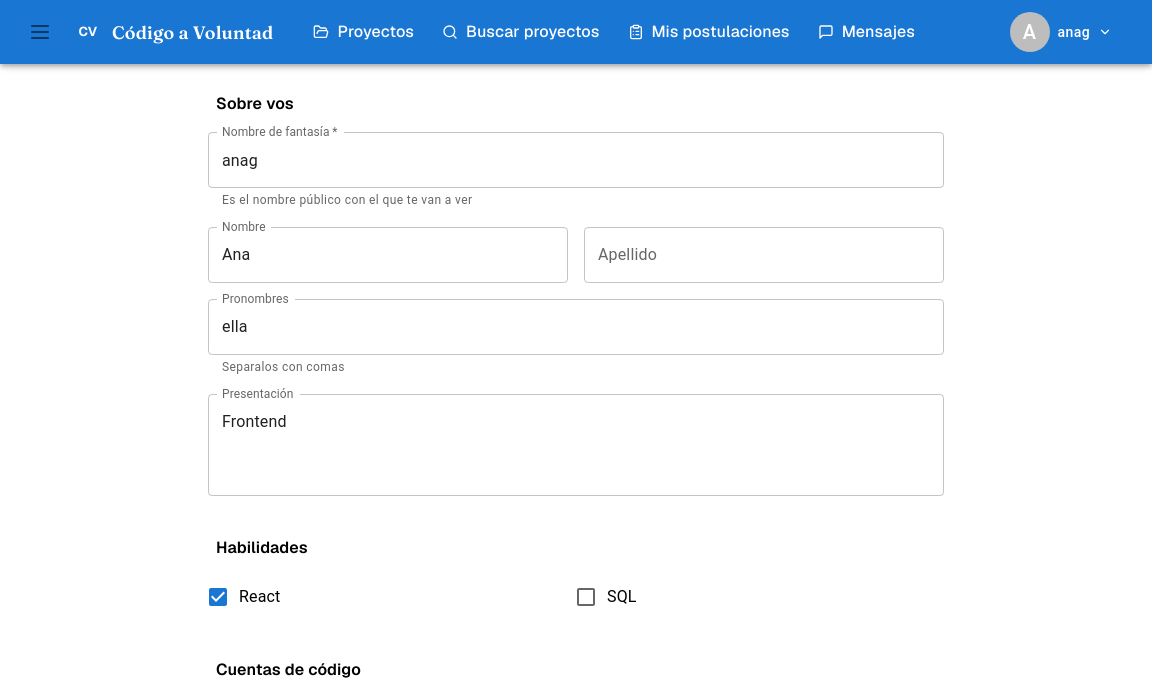
Test case: MiPerfil › si el backend rechaza los cambios muestra su mensaje y conserva lo tipeado
This screenshot has width=1152, height=698.
expect the field labelled "Nombre de fantasía *" is shown: met, box 208,132 -> 944,188
Replace the text in the text box labelled "Presentación" with "Backend" at (576, 445), box 222,410 -> 930,479
(page scrolled)
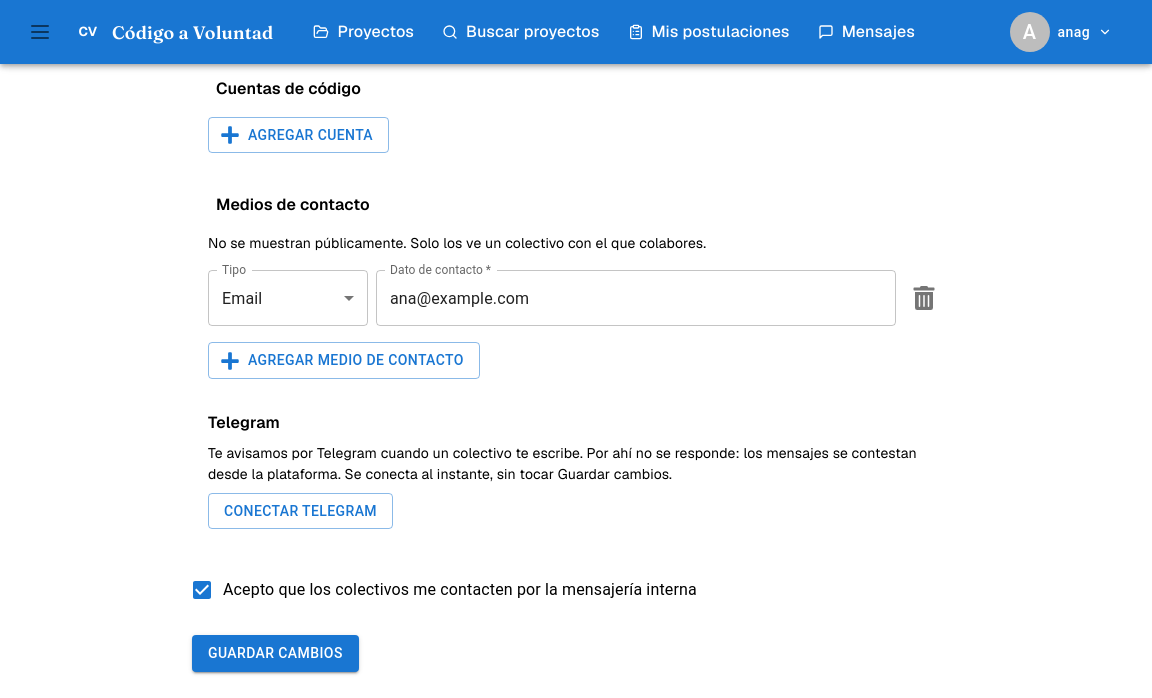
Click the button "Agregar medio de contacto" at (344, 361), box 208,342 -> 480,379
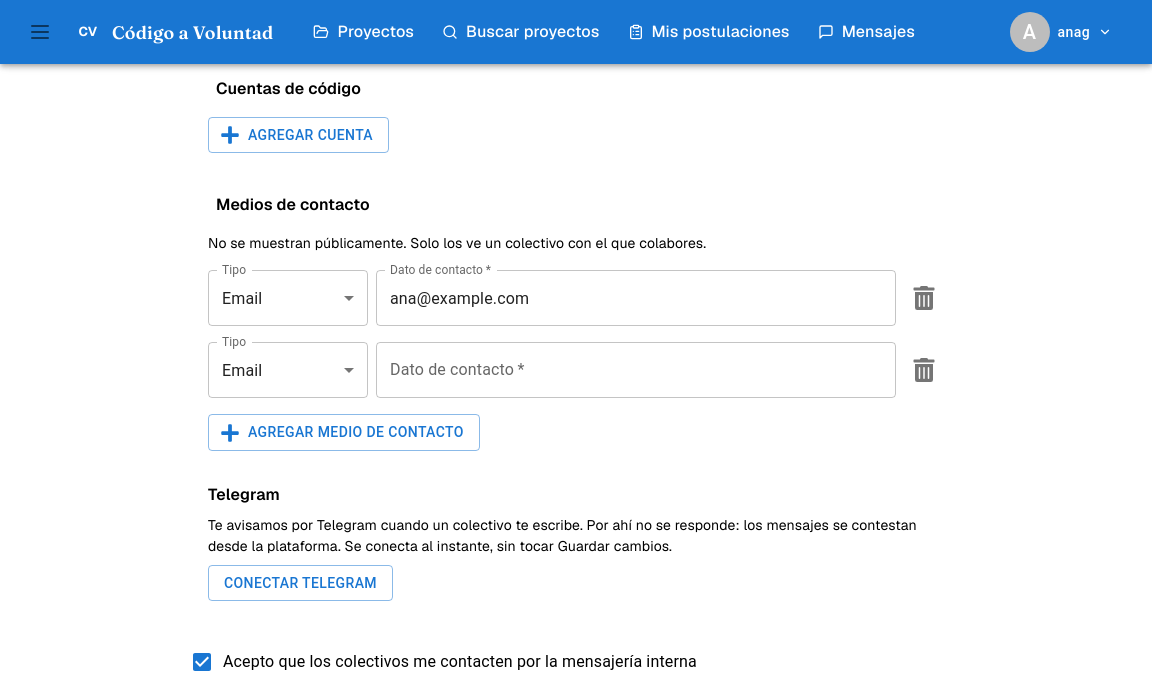
Type "abc" into the 2nd field labelled "Dato de contacto *" at (636, 370), box 376,342 -> 896,398
(page scrolled)
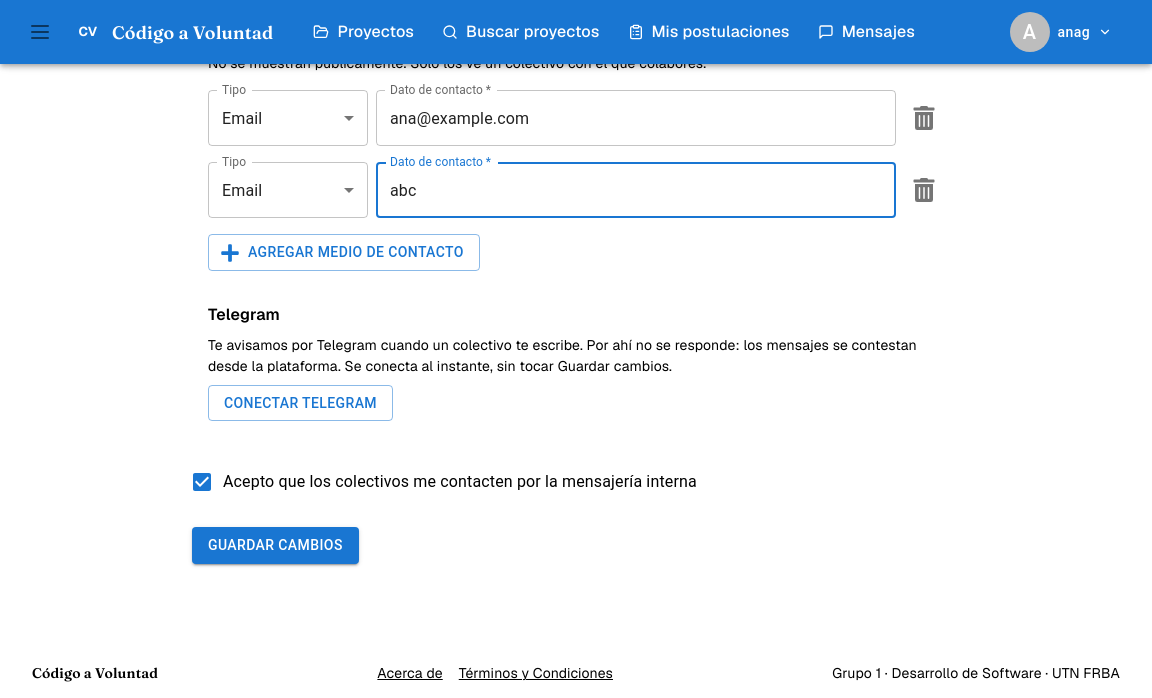
Click the button "Guardar cambios" at (275, 546), box 192,527 -> 359,564
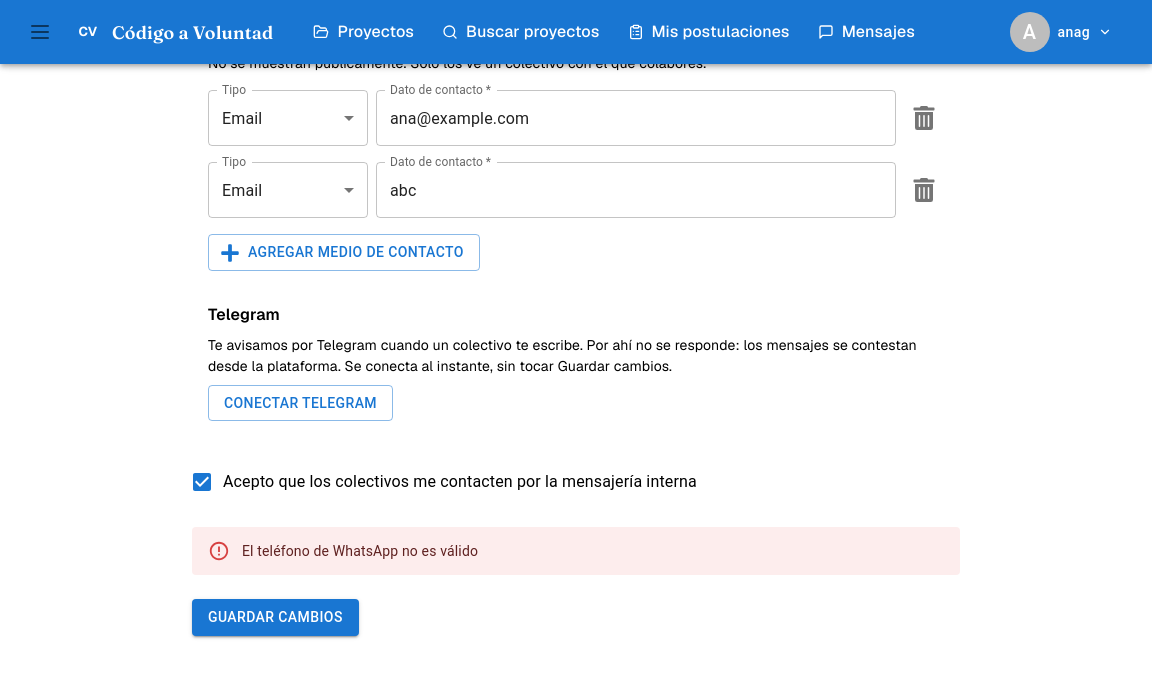
expect the text "El teléfono de WhatsApp no es válido" is shown: met, box 242,543 -> 478,559
